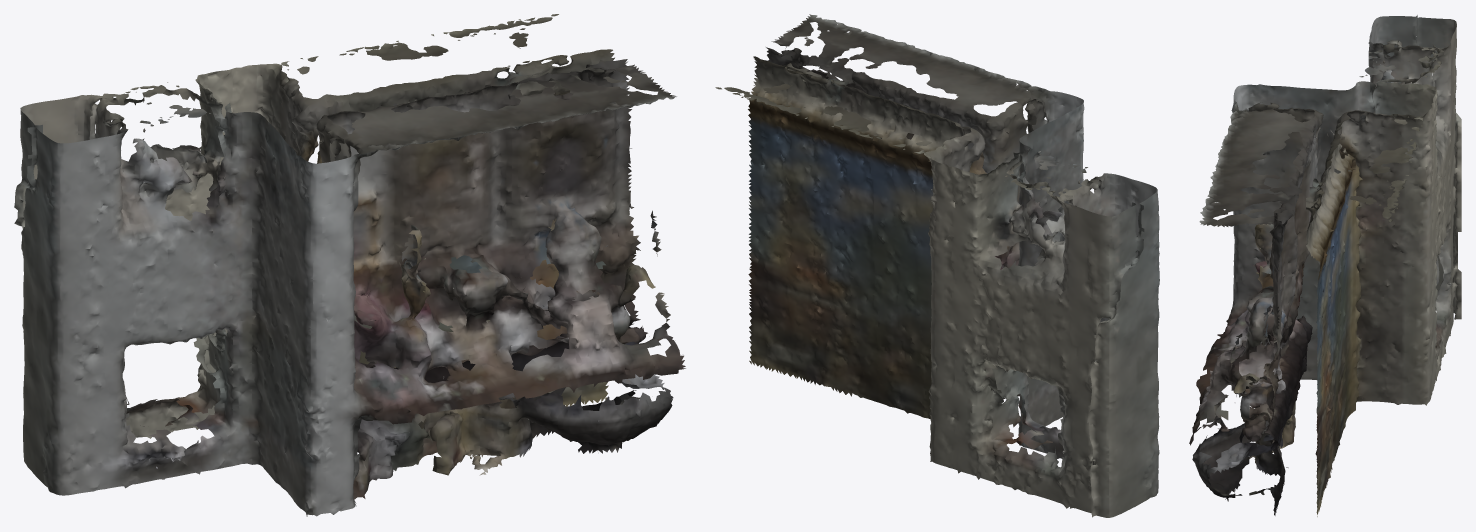
The model's file is fine.glb.
3 views of the same model, side by side, from view 1: azimuth 30°, elevation 25°; view 2: azimuth 150°, elevation 25°; view 3: azimuth 270°, elevation 25° (orthographic). The views are drawn at different scales.
Bounding box in the file's own units: 1.25 × 0.8151 × 0.6845.
